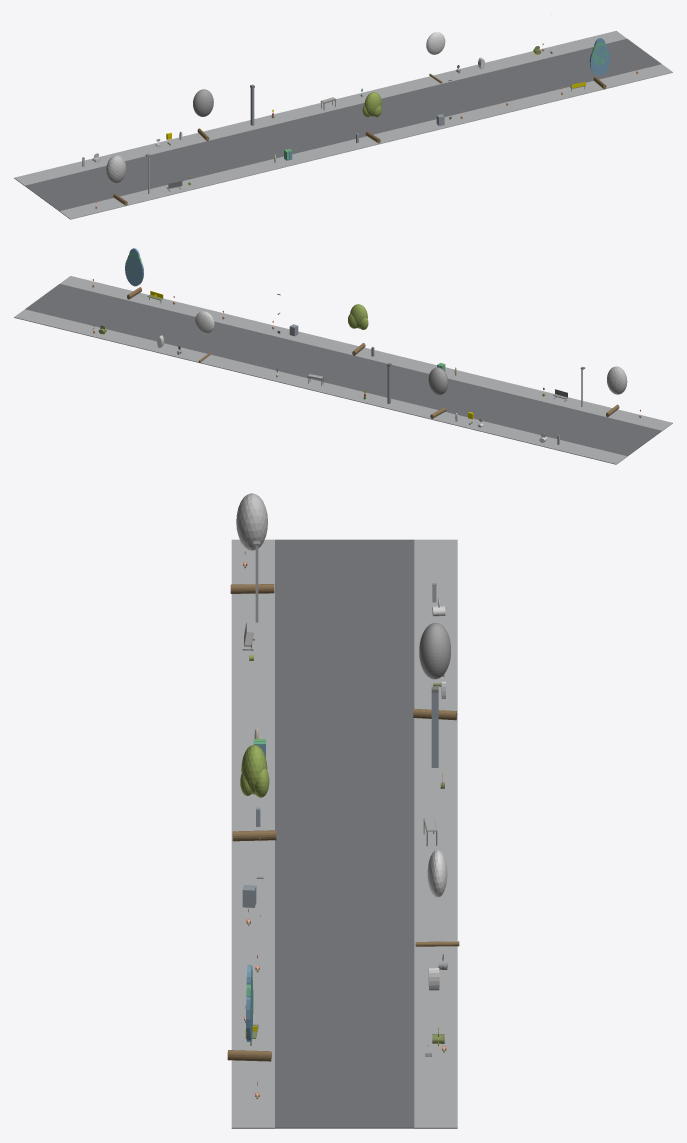
The picture shows the model from 3 angles, top to bottom: view 1: azimuth 30°, elevation 25°; view 2: azimuth 150°, elevation 25°; view 3: azimuth 270°, elevation 25°; orthographic projection. The views are drawn at different scales.
Parts seen in each view (by area): view 1: road_slab, sidewalk_left, sidewalk_right, inst_0016, inst_0012, inst_0013, inst_0014, inst_0015; view 2: road_slab, sidewalk_right, sidewalk_left, inst_0016, inst_0012, inst_0013, inst_0014, inst_0015; view 3: road_slab, sidewalk_left, sidewalk_right, inst_0012, inst_0013, inst_0014, inst_0016, inst_0015.
Part boxes in pixels (left/top/right/bottom): road_slab: left=25, top=38, right=661, bottom=211; sidewalk_left: left=59, top=64, right=672, bottom=219; sidewalk_right: left=14, top=30, right=626, bottom=185; inst_0016: left=589, top=38, right=610, bottom=89; inst_0012: left=106, top=155, right=127, bottom=205; inst_0013: left=193, top=89, right=213, bottom=141; inst_0014: left=362, top=92, right=381, bottom=143; inst_0015: left=426, top=32, right=445, bottom=83; road_slab: left=25, top=284, right=661, bottom=456; sidewalk_right: left=14, top=309, right=627, bottom=464; sidewalk_left: left=60, top=276, right=672, bottom=430; inst_0016: left=125, top=248, right=143, bottom=299; inst_0012: left=606, top=366, right=627, bottom=417; inst_0013: left=428, top=367, right=448, bottom=418; inst_0014: left=348, top=304, right=368, bottom=355; inst_0015: left=195, top=311, right=214, bottom=362; road_slab: left=275, top=539, right=414, bottom=1128; sidewalk_left: left=231, top=539, right=274, bottom=1128; sidewalk_right: left=414, top=539, right=457, bottom=1128; inst_0012: left=230, top=493, right=274, bottom=593; inst_0013: left=413, top=623, right=457, bottom=720; inst_0014: left=232, top=744, right=276, bottom=841; inst_0016: left=227, top=965, right=271, bottom=1061; inst_0015: left=415, top=850, right=459, bottom=946.
Bounding box in the file's own units: 80 × 6.08 × 13.31.
